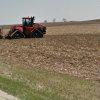Tractor: (7, 13, 48, 42)
